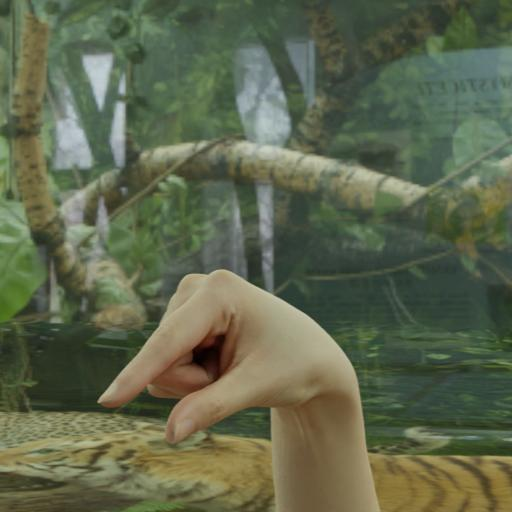Q: (91, 266, 367, 454)
